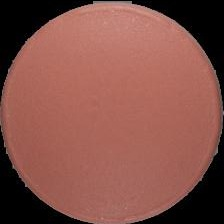50090-1185: (0, 0, 224, 224)
